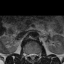CCS_normal: (31, 50, 33, 61)
LFS_normal: (36, 51, 38, 58)
LLS_normal: (33, 50, 36, 60)
RFS_stenosis: (26, 51, 29, 59)
RLS_normal: (29, 51, 31, 60)
